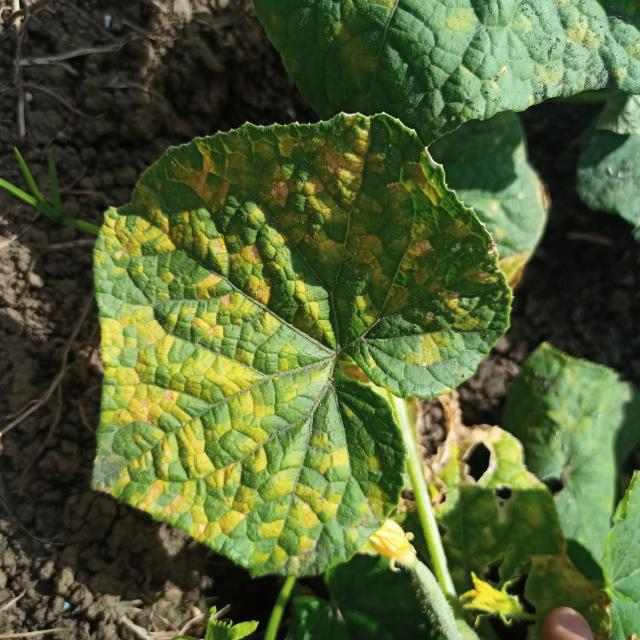disease_cucumber: (99, 129, 495, 556)
